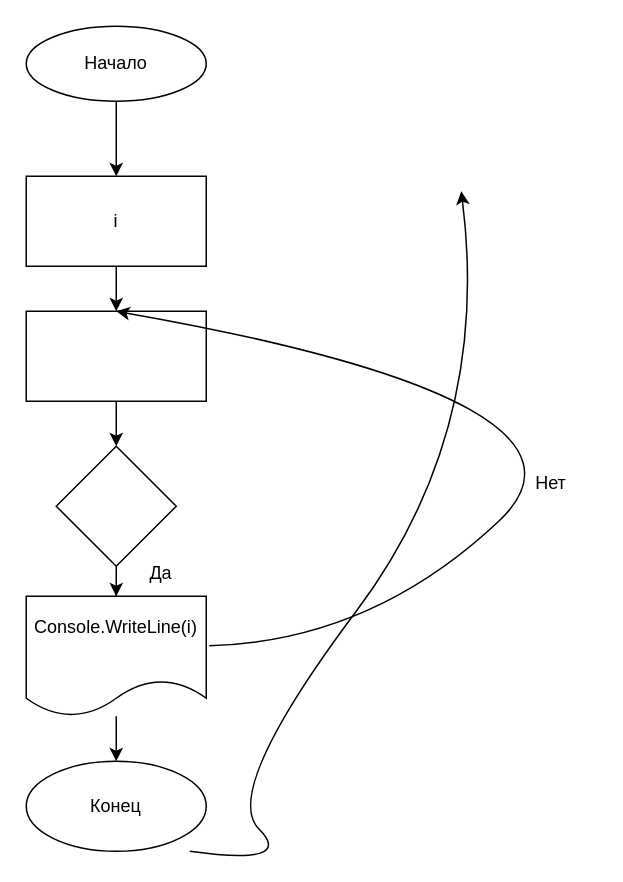
Some shapes in this 623 by 882 pixel diagram are drawn without their labels. Each missing label, with the centre of its shape:
for ( i = 10 ; i <= 99 ; i ++ ): (115,355)
if ((( i / 10 ) + ( i % 10 )) % 5 == 0 ): (115,505)
